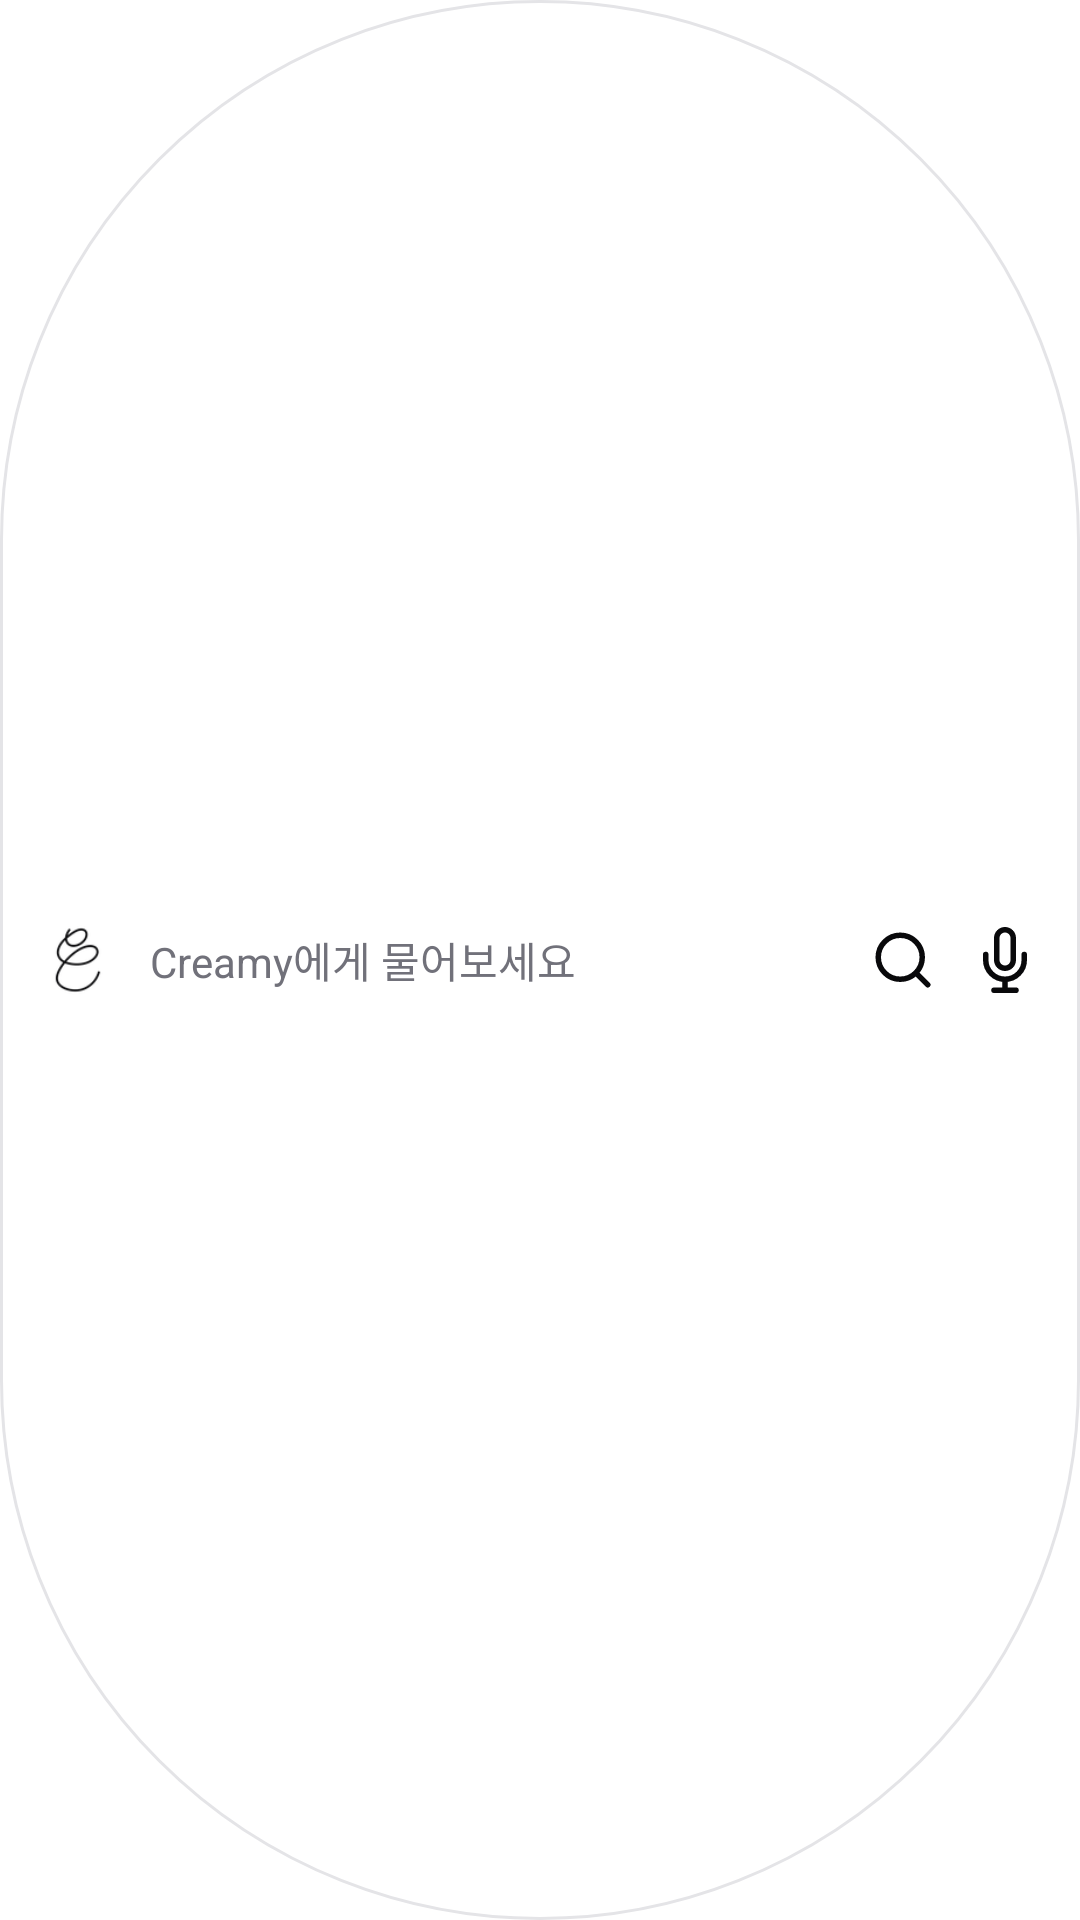

Icon click points for this 1080×1920 phone screenshot, format (x=x, y=y):
Search: (x=903, y=960)
Voice: (x=1005, y=960)
